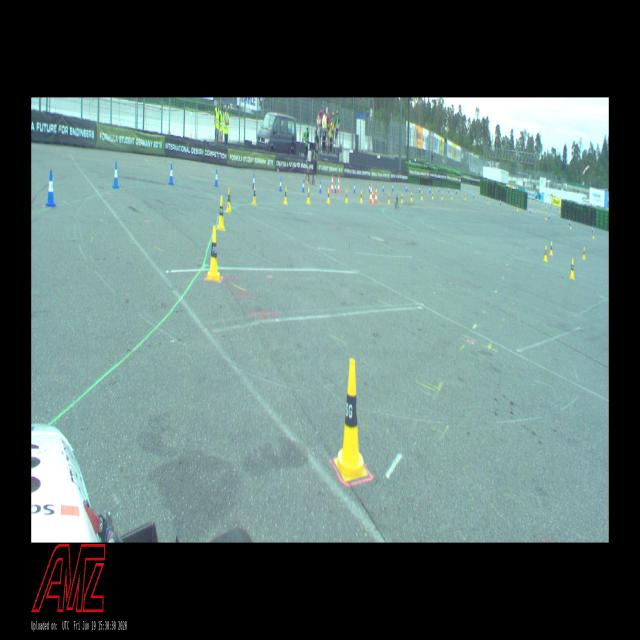blue_cone: (45, 170, 56, 207), (113, 162, 119, 189), (168, 164, 174, 185), (214, 170, 218, 186), (252, 174, 255, 188), (279, 179, 282, 191), (302, 180, 305, 192), (319, 181, 321, 193), (334, 182, 336, 193), (392, 184, 394, 192), (354, 184, 356, 192), (382, 183, 384, 191), (591, 226, 593, 233), (529, 207, 531, 213), (406, 184, 407, 192), (369, 184, 370, 192), (419, 185, 420, 192), (569, 218, 570, 225), (549, 212, 550, 219), (438, 186, 439, 192), (448, 187, 449, 193), (473, 192, 474, 198), (456, 189, 457, 194), (500, 199, 501, 204), (430, 186, 430, 192)
large_orange_cone: (374, 186, 378, 203), (369, 184, 372, 203), (331, 175, 334, 193), (337, 176, 340, 193)
yellow_cone: (334, 359, 368, 481), (207, 226, 220, 281), (217, 194, 224, 230), (226, 186, 232, 212), (569, 259, 575, 279), (252, 186, 256, 204), (544, 246, 548, 262), (306, 188, 310, 203), (284, 186, 287, 204), (582, 248, 586, 260), (550, 240, 553, 254), (327, 189, 330, 203), (360, 190, 363, 202), (345, 191, 348, 203), (372, 192, 374, 203), (401, 193, 403, 202), (388, 194, 390, 203), (451, 192, 453, 200), (441, 192, 443, 200), (420, 192, 422, 200), (464, 193, 466, 200), (432, 192, 434, 199), (570, 222, 572, 229), (544, 214, 546, 220), (593, 231, 594, 239), (411, 193, 412, 200), (517, 205, 518, 211), (488, 198, 488, 204)
